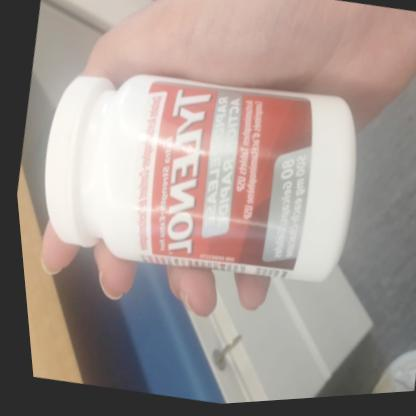jar: (35, 64, 365, 287)
